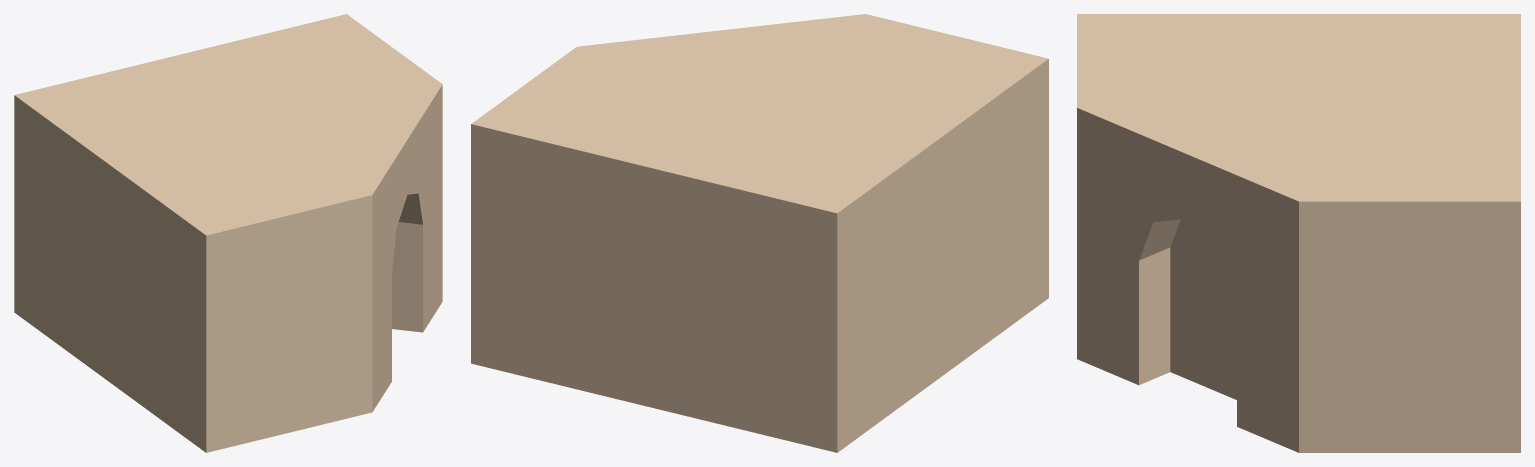
File: building-corner-window-top-round.obj
The picture shows the model from 3 angles, left to right: view 1: azimuth 30°, elevation 25°; view 2: azimuth 150°, elevation 25°; view 3: azimuth 270°, elevation 25°; orthographic projection. The views are drawn at different scales.
Bounding box in the file's own units: 1 × 0.625 × 1.
